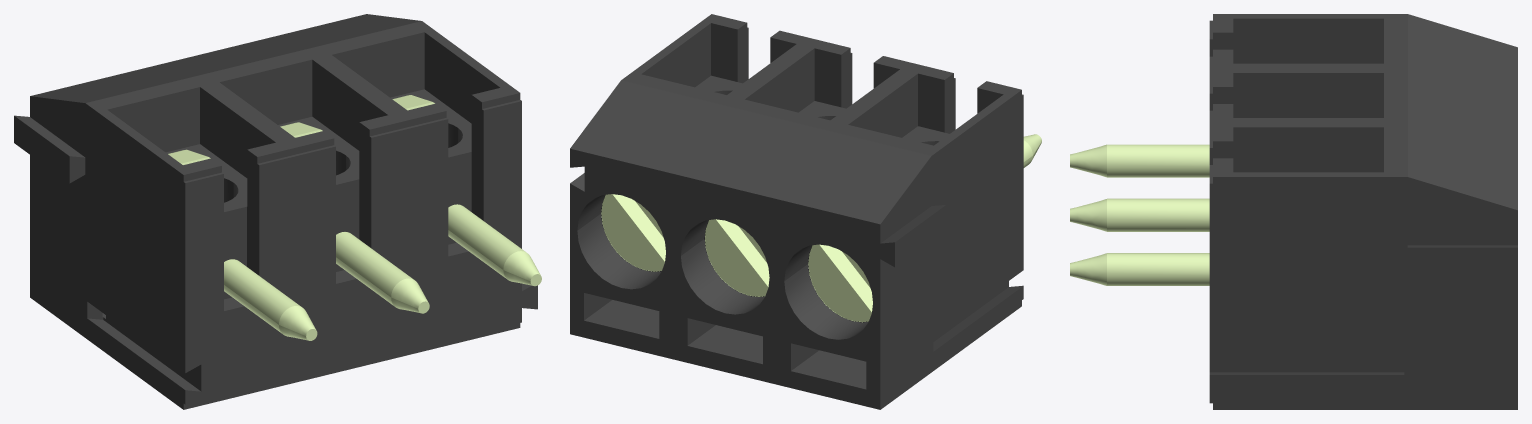
The model's file is sfe-screw_terminal_3.5mm_3p_black.glb.
3 views of the same model, side by side, from view 1: azimuth 30°, elevation 25°; view 2: azimuth 150°, elevation 25°; view 3: azimuth 270°, elevation 25° (orthographic). The views are drawn at different scales.
Parts seen in each view (by area): view 1: 0.08333333333333333_0.08333333333333333_0.08333333333333333_, 0.8333333333333334_1_0.5_0; view 2: 0.08333333333333333_0.08333333333333333_0.08333333333333333_, 0.8333333333333334_1_0.5_0; view 3: 0.08333333333333333_0.08333333333333333_0.08333333333333333_, 0.8333333333333334_1_0.5_0.
Part boxes in pixels (x1,y1,x2,y2): 0.08333333333333333_0.08333333333333333_0.08333333333333333_: [14, 14, 537, 409]; 0.8333333333333334_1_0.5_0: [168, 95, 541, 340]; 0.08333333333333333_0.08333333333333333_0.08333333333333333_: [570, 14, 1023, 409]; 0.8333333333333334_1_0.5_0: [601, 134, 1041, 322]; 0.08333333333333333_0.08333333333333333_0.08333333333333333_: [1209, 14, 1517, 409]; 0.8333333333333334_1_0.5_0: [1070, 144, 1209, 285].
Bounding box in the file's own units: 1.15 × 0.7 × 1.22.
